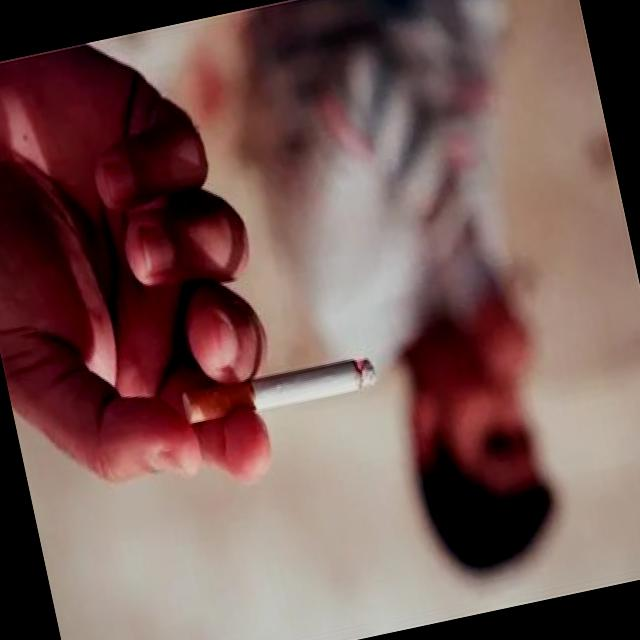cigarette: (170, 346, 387, 436)
